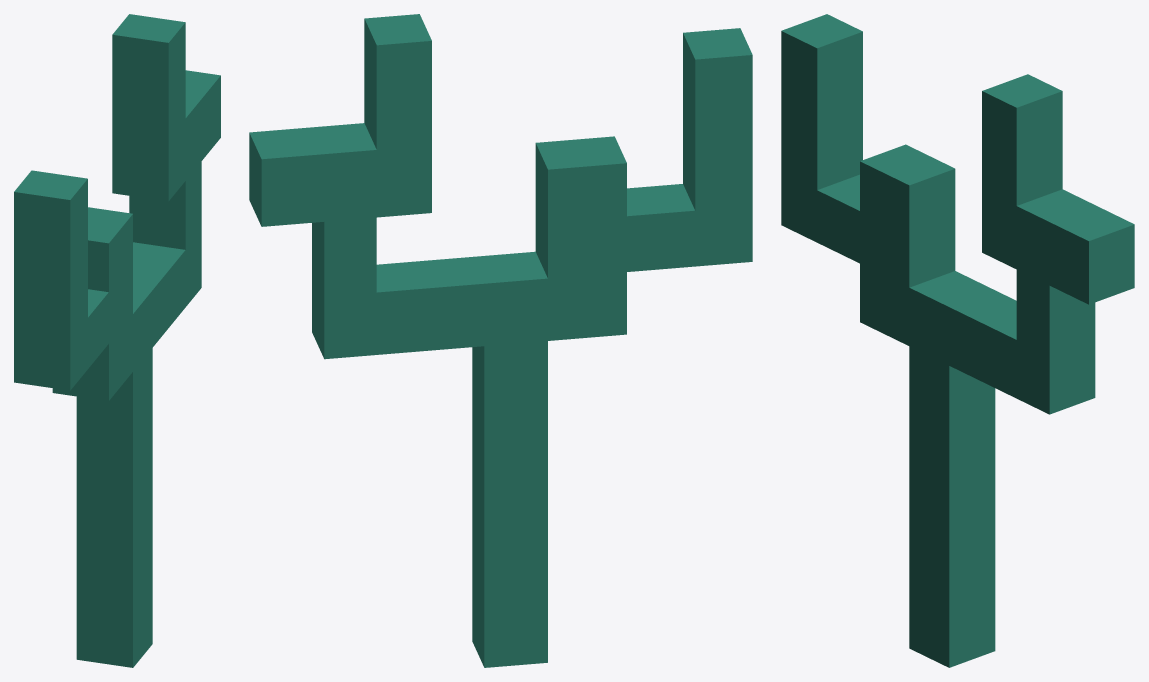
File: cactus2.fbx
3 renders of one model, left to right at view 1: azimuth 30°, elevation 25°; view 2: azimuth 150°, elevation 25°; view 3: azimuth 270°, elevation 25°, orthographic. The views are drawn at different scales.
Parts seen in each view (by area): view 1: Plane.037; view 2: Plane.037; view 3: Plane.037.
Part boxes in pixels (x1,y1,x2,y2): Plane.037: (14, 14, 220, 667); Plane.037: (249, 14, 752, 667); Plane.037: (781, 14, 1134, 667).
Bounding box in the file's own units: 394 × 653 × 353.
